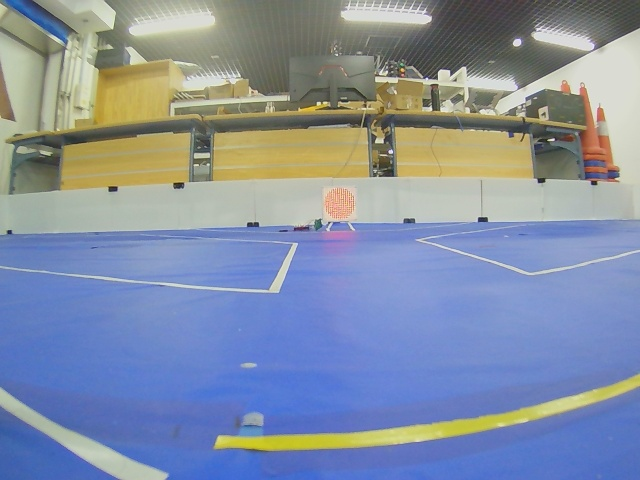red: (323, 187, 356, 222)
